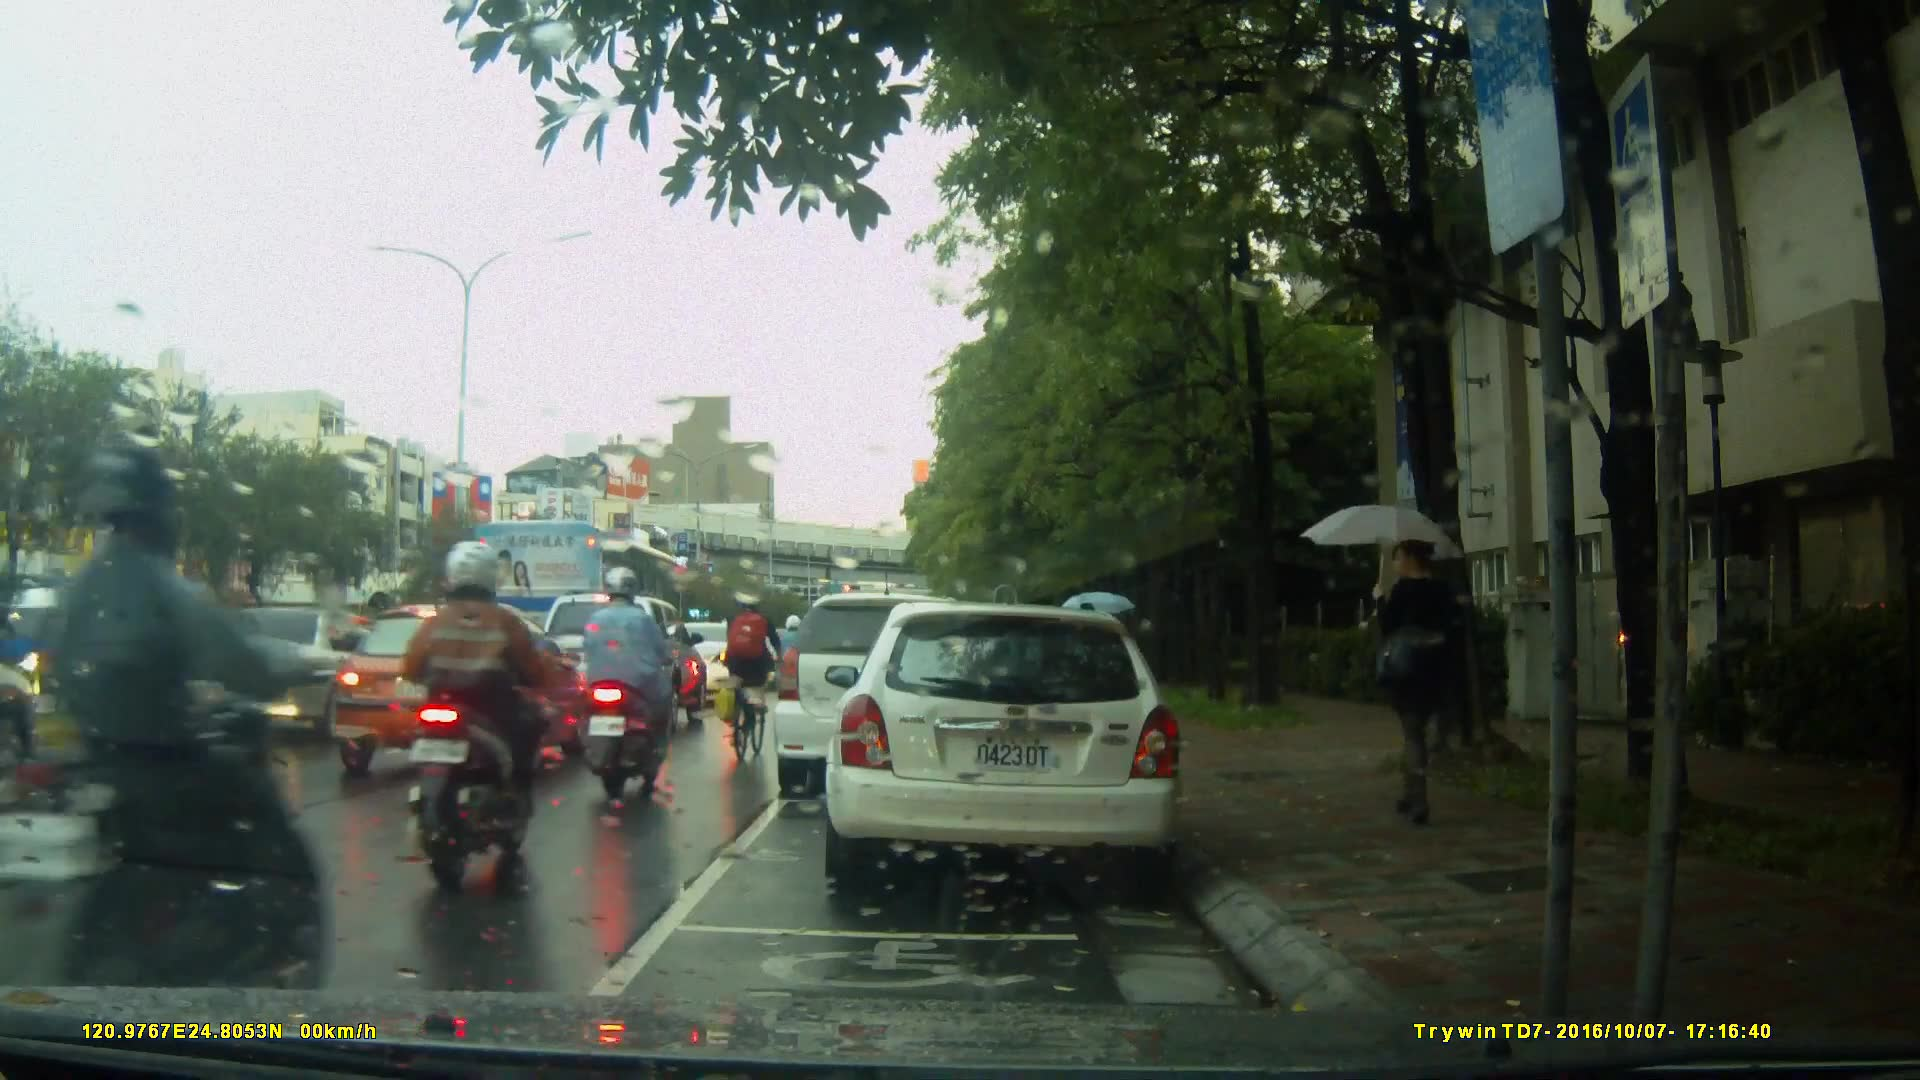pedestrian: (1352, 539, 1479, 830)
rider: (25, 444, 316, 1037), (395, 538, 561, 876), (585, 571, 682, 799), (723, 596, 788, 766)
vehicle: (835, 594, 1194, 898), (776, 590, 1026, 784), (323, 602, 596, 781), (469, 517, 701, 670), (177, 605, 416, 744), (519, 590, 707, 720)
